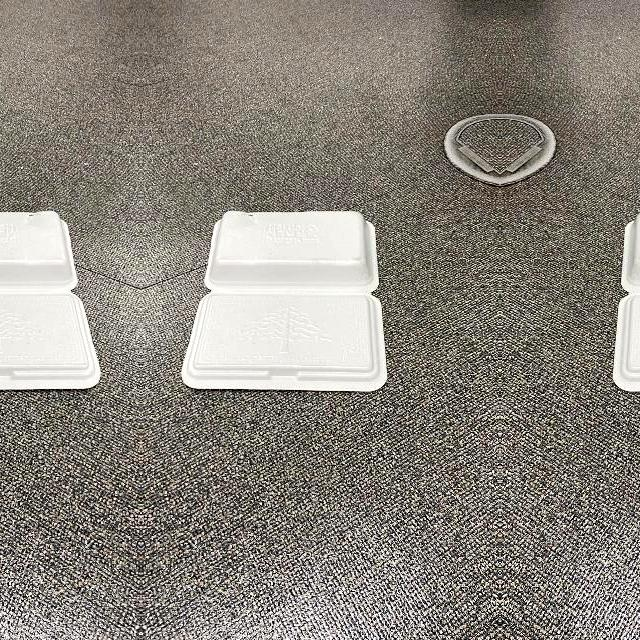Styrofoam: (179, 210, 387, 394), (180, 211, 386, 391), (0, 210, 101, 393), (0, 211, 100, 390)
